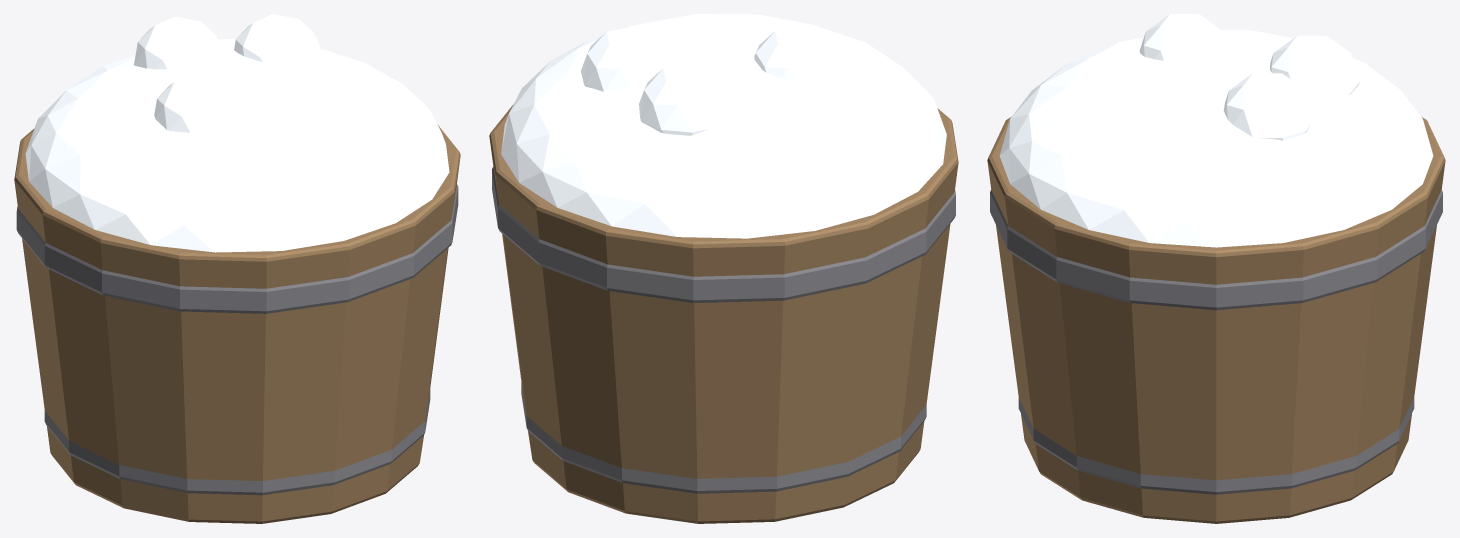
The model's file is CubetaNieve.glb.
The picture shows the model from 3 angles, left to right: view 1: azimuth 30°, elevation 25°; view 2: azimuth 150°, elevation 25°; view 3: azimuth 270°, elevation 25°; orthographic projection. The views are drawn at different scales.
Parts seen in each view (by area): view 1: CubetaNieve; view 2: CubetaNieve; view 3: CubetaNieve.
Part boxes in pixels (x1=…): CubetaNieve: x1=14, y1=14, x2=460, y2=523; CubetaNieve: x1=489, y1=14, x2=958, y2=523; CubetaNieve: x1=987, y1=14, x2=1445, y2=523.
Bounding box in the file's own units: 0.7181 × 0.695 × 0.7181.
